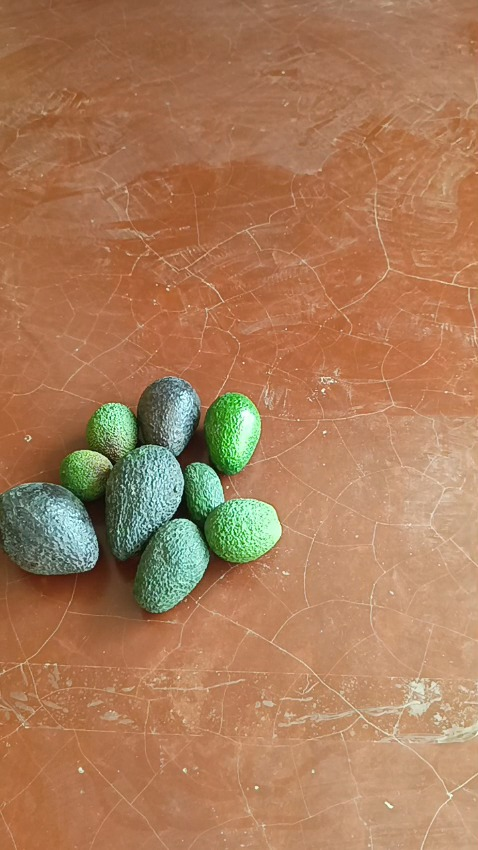Primera: (103, 442, 185, 559), (0, 482, 100, 575), (135, 375, 201, 456)
Segunda: (132, 518, 210, 612), (204, 499, 282, 564), (203, 392, 262, 474)
Tercera: (84, 401, 139, 465), (59, 449, 114, 502), (183, 461, 224, 531)
